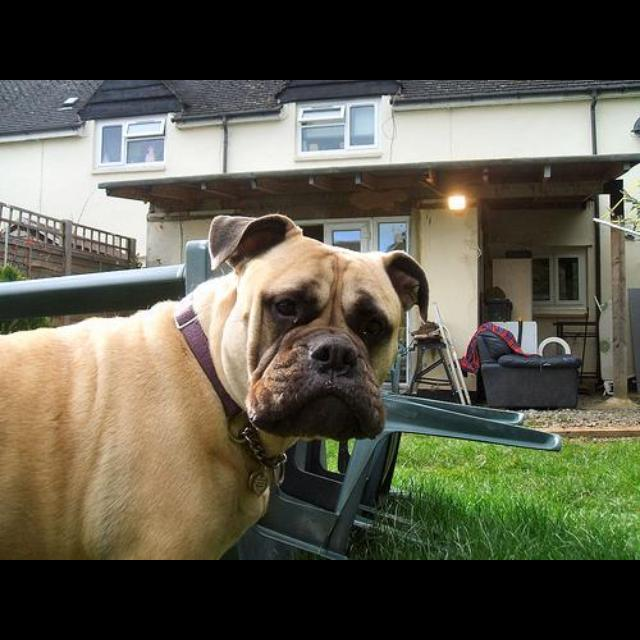bullmastiff: (1, 213, 431, 559)
